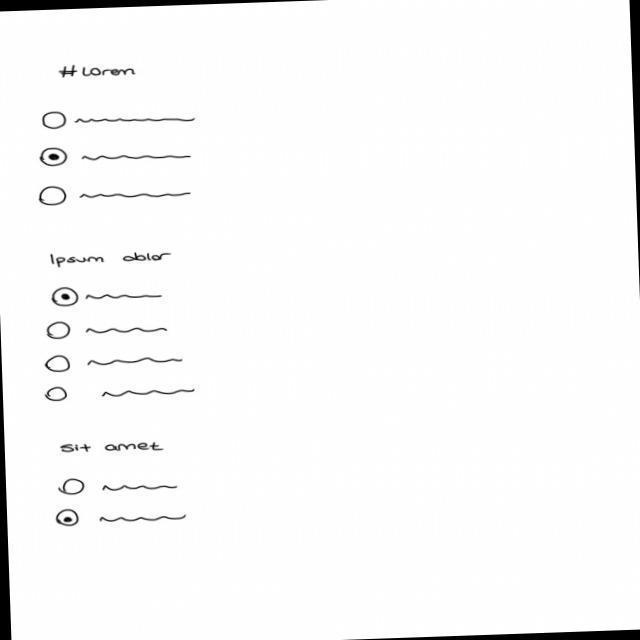label: (46, 248, 177, 269), (60, 438, 169, 458), (55, 62, 141, 81)
radio: (36, 180, 73, 210), (49, 281, 85, 310), (38, 141, 73, 170), (37, 106, 74, 132), (44, 349, 78, 377), (43, 316, 80, 341), (42, 380, 76, 406), (57, 474, 90, 498), (54, 504, 82, 530)
